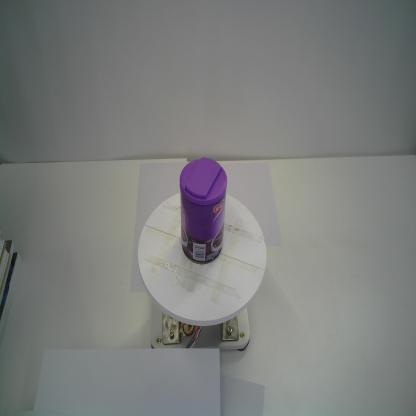Canned Food: (179, 156, 227, 266)
